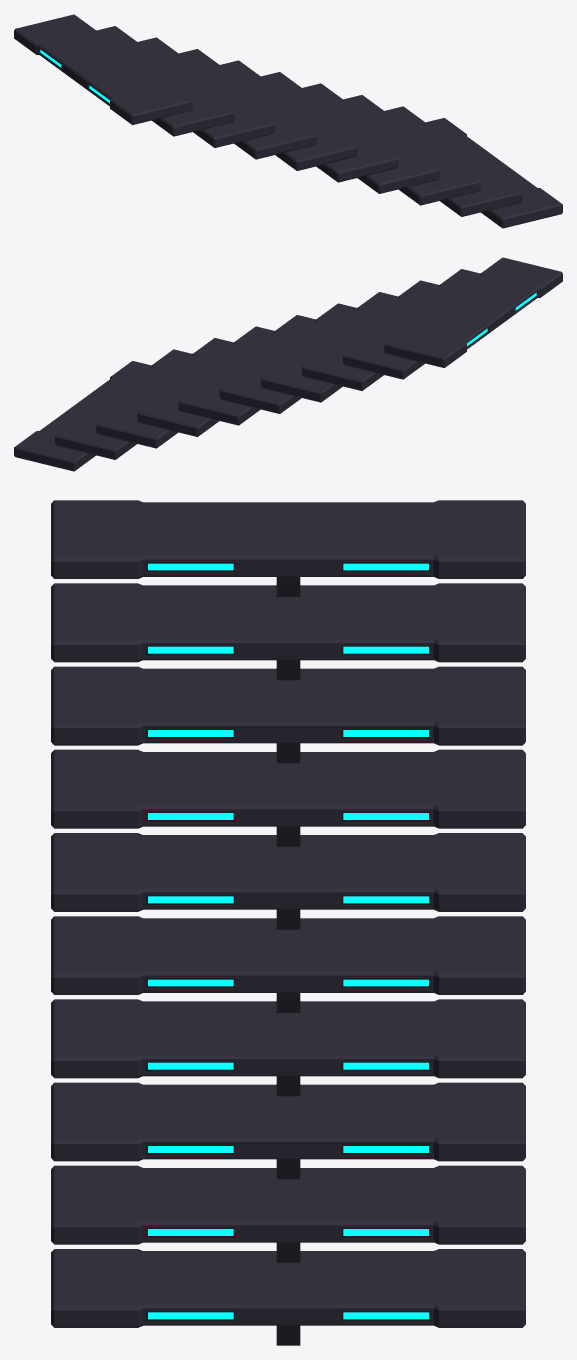
File: SM_Stairs_2x1.fbx
3 views of the same model, one above another, from view 1: azimuth 30°, elevation 25°; view 2: azimuth 150°, elevation 25°; view 3: azimuth 270°, elevation 25° (orthographic). The views are drawn at different scales.
Visible parts, largest first — view 1: SM_Stairs_2x1; view 2: SM_Stairs_2x1; view 3: SM_Stairs_2x1.
Boxes of the visible parts, <box> form: SM_Stairs_2x1: <box>14,14,562,228</box>; SM_Stairs_2x1: <box>14,257,562,471</box>; SM_Stairs_2x1: <box>51,500,525,1345</box>.
Size of the model in its own units: 210 by 100 by 100.
